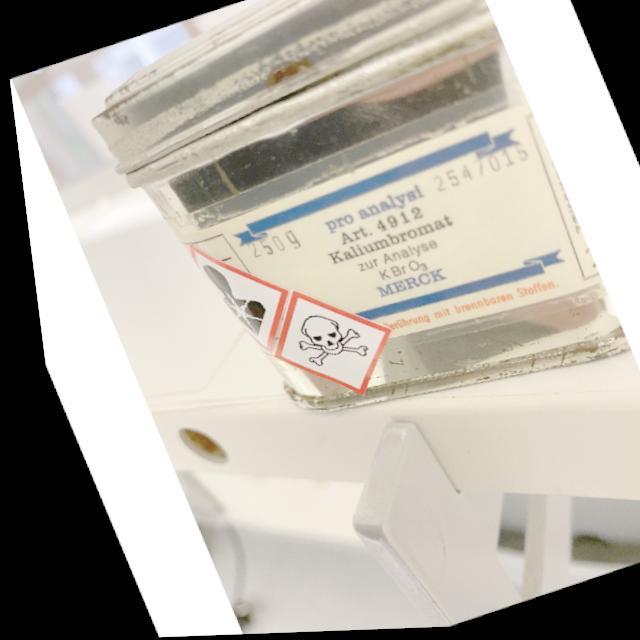acute toxicity: (277, 304, 363, 377)
serious health hazard: (195, 254, 267, 345)
